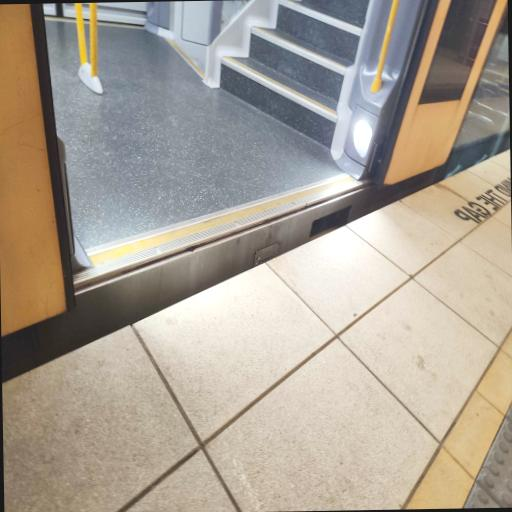gap: (2, 137, 510, 384)
